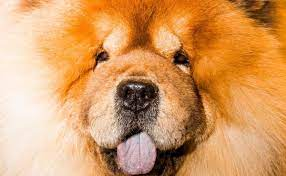dog: (1, 1, 286, 176)
